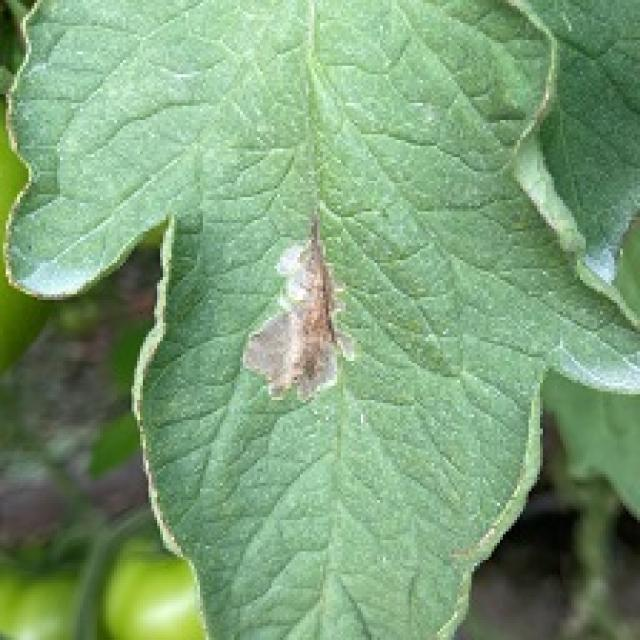Tuta absoluta: (232, 210, 392, 414)
